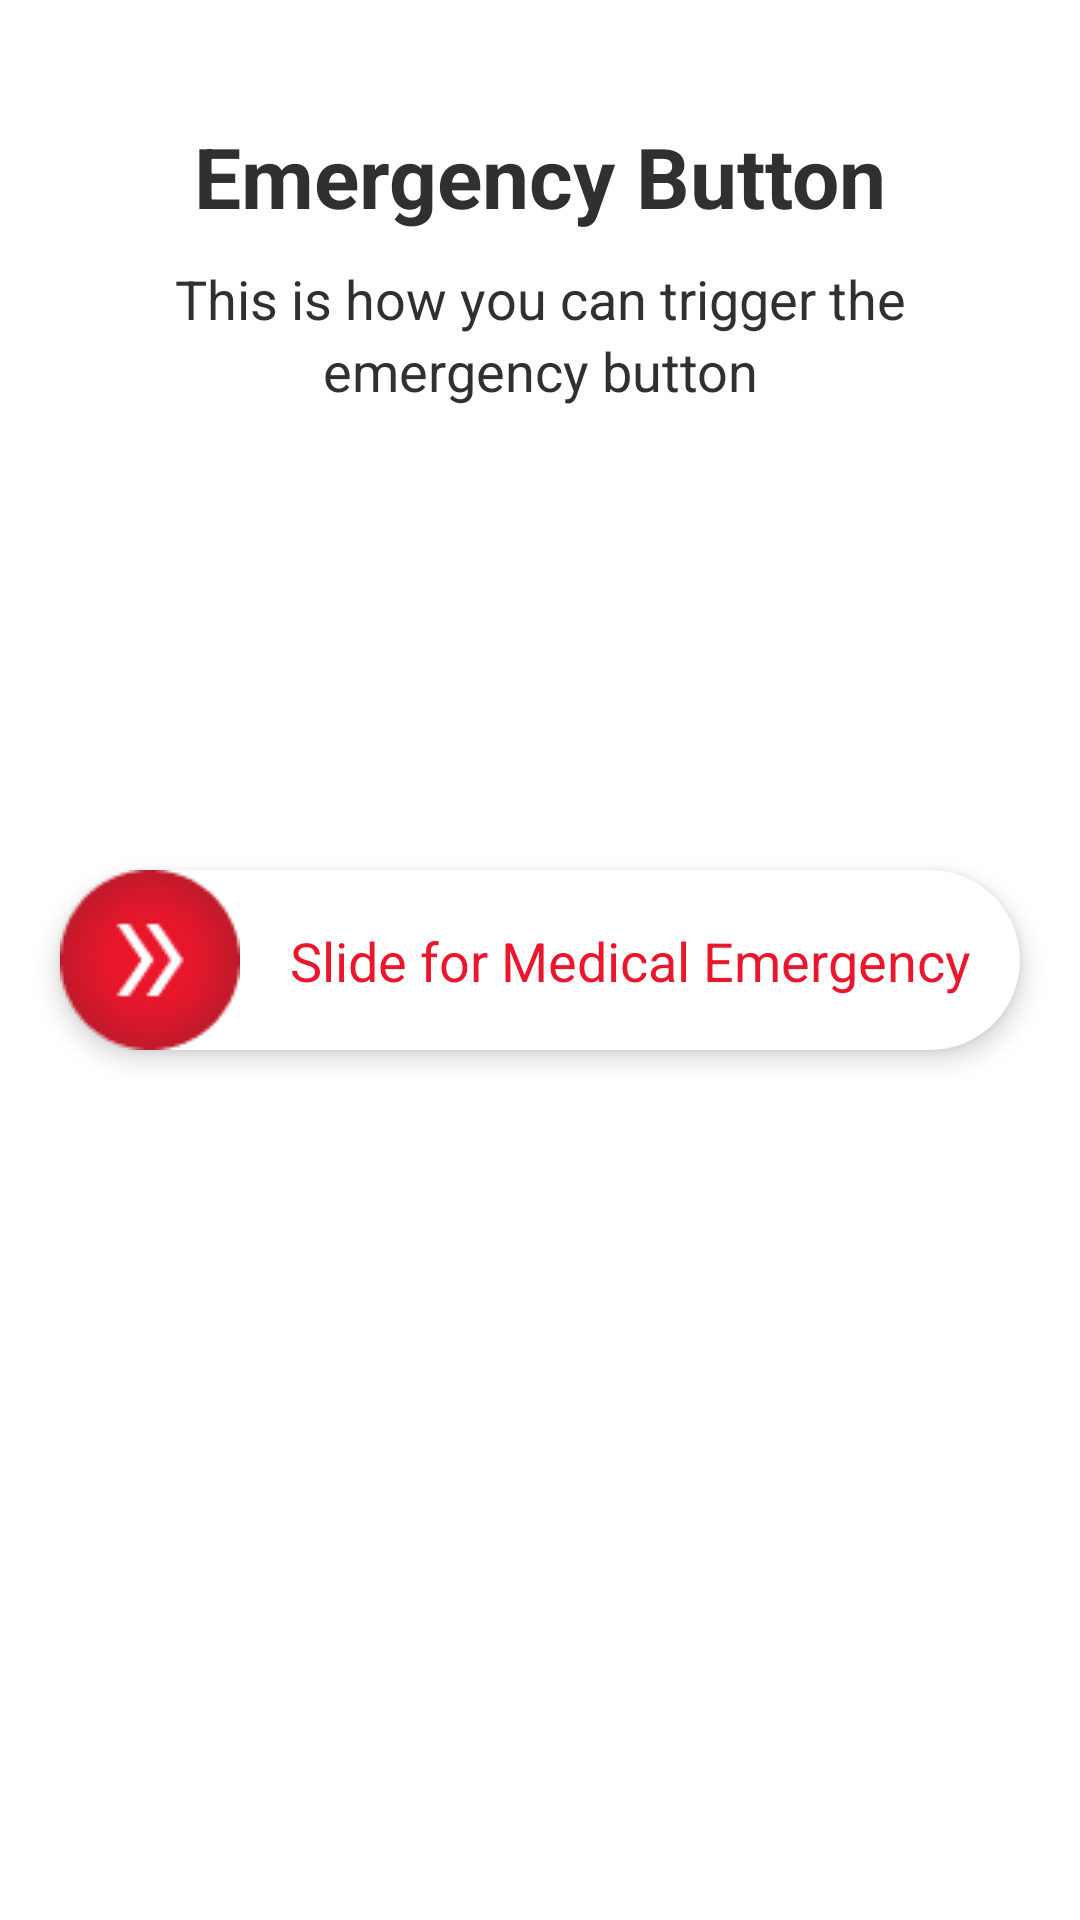

Icon click points for this 1080*1920 phone screenshot, format point (x, y):
slider: point (150, 960)
